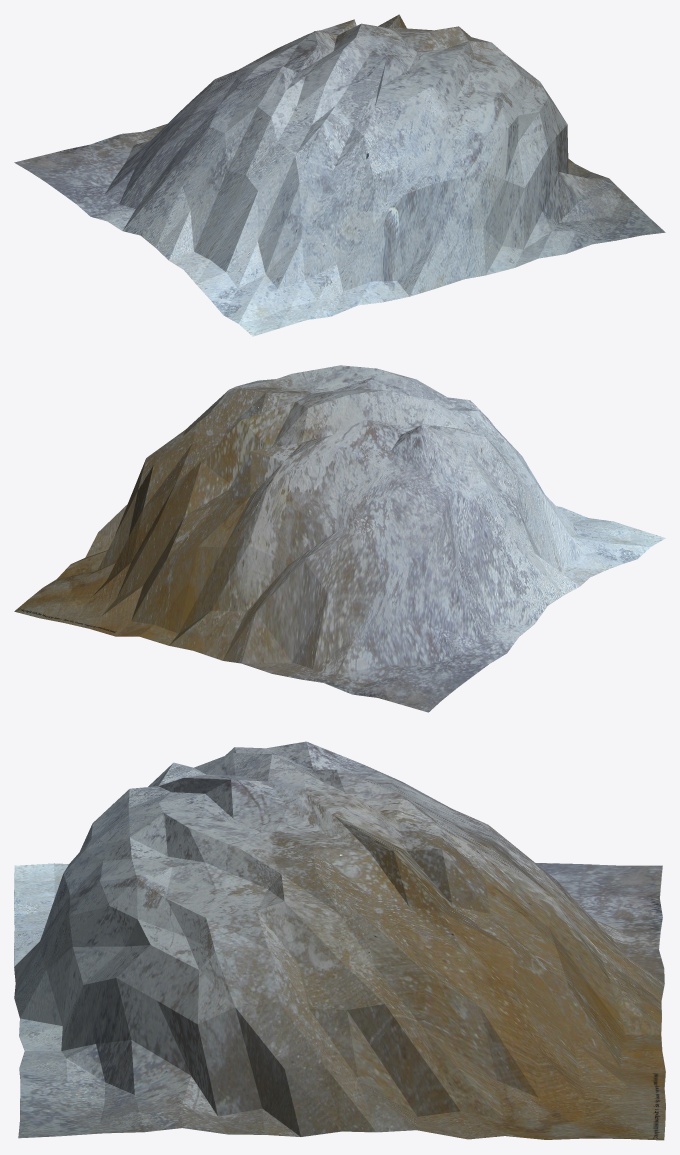
File: rock.obj
3 renders of one model, top to bottom at view 1: azimuth 30°, elevation 25°; view 2: azimuth 150°, elevation 25°; view 3: azimuth 270°, elevation 25°, orthographic. The views are drawn at different scales.
Bounding box in the file's own units: 2.04 × 0.8012 × 2.01.
Materials: 1 (1 with a texture image).
